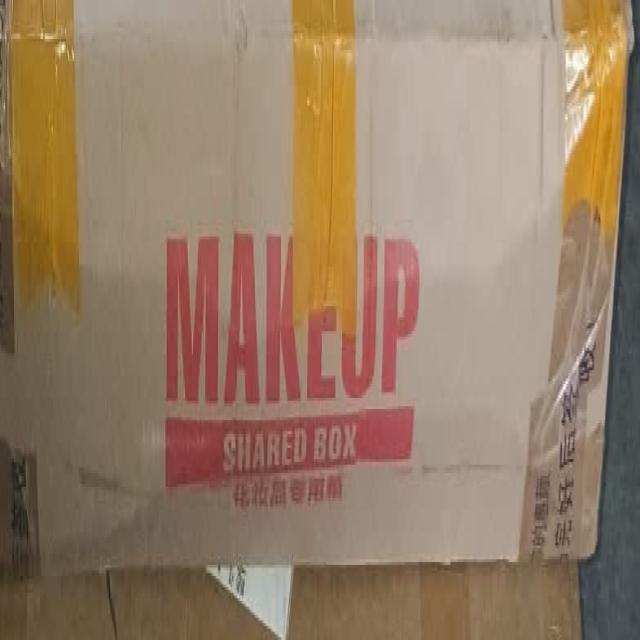carton_box: (1, 0, 640, 615)
